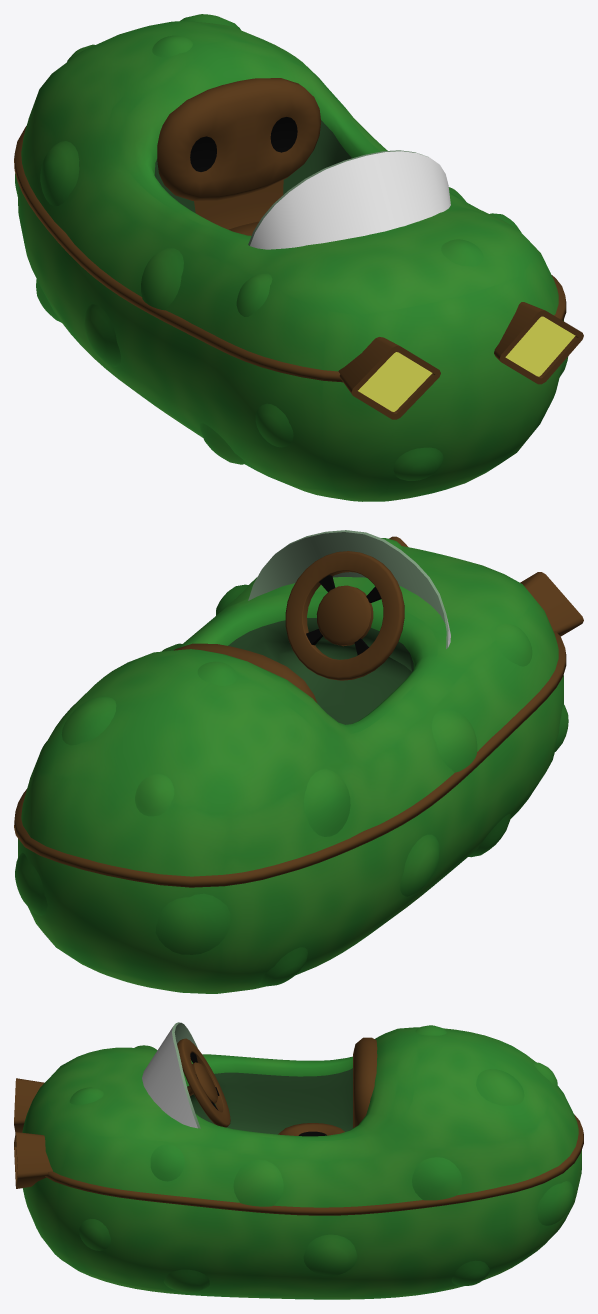
Rendered from earthbound_64_porkbean__pickle_car.glb.
3 views of the same model, one above another, from view 1: azimuth 30°, elevation 25°; view 2: azimuth 150°, elevation 25°; view 3: azimuth 270°, elevation 25° (orthographic). The views are drawn at different scales.
Parts seen in each view (by area): view 1: body, body.001; view 2: body; view 3: body, body.001.
Boxes of the visible parts, bbox=[...] form: body: bbox=[14, 14, 583, 501]; body.001: bbox=[250, 151, 450, 249]; body: bbox=[14, 530, 583, 993]; body: bbox=[14, 1022, 583, 1299]; body.001: bbox=[142, 1027, 197, 1128].
Bounding box in the file's own units: 1.12 × 1.05 × 2.16.
2 materials, 1 textured.
